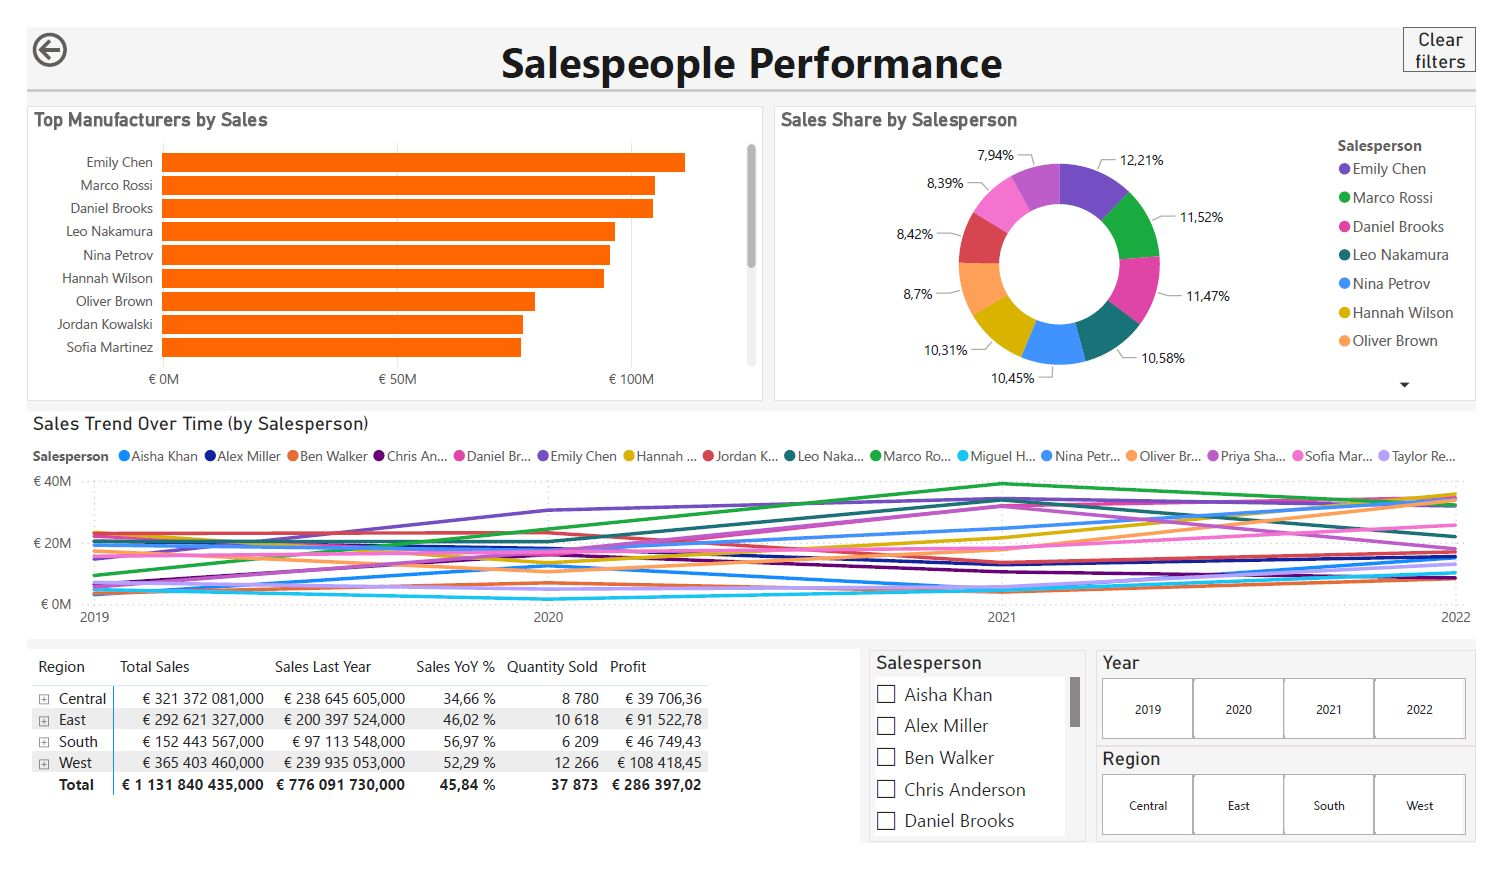

Layout of this report page (visuals, bound fields, positions):
{"tool":"powerbi","page":{"name":"03. Salesperson Performance","canvas":[1280,720],"ordinal":2},"visuals":[{"type":"textbox","box":[0,0,1280,70],"z":0},{"type":"clusteredBarChart","title":"Top Manufacturers by Sales","fields":{"Y":["_Measures.Total Sales"],"Category":["Fact_Sales.salesperson"]},"box":[0,70,650,260],"z":1000},{"type":"donutChart","title":"Sales Share by Salesperson","fields":{"Category":["Fact_Sales.salesperson"],"Y":["_Measures.Total Sales"]},"box":[660,70,620,260],"z":2000},{"type":"advancedSlicerVisual","fields":{"Values":["Fact_Sales_updated.region"]},"box":[944,640,336,80],"z":3000},{"type":"listSlicer","fields":{"Values":["Fact_Sales.salesperson"]},"box":[744,552,192,168],"z":4000},{"type":"lineChart","title":"Sales Trend Over Time (by Salesperson)","fields":{"Series":["Fact_Sales.salesperson"],"Y":["_Measures.Total Sales"],"Category":["Calendar.Date Hierarchy.Year_H","Calendar.Date Hierarchy.Month_H","Calendar.Date Hierarchy.Day_H"]},"box":[0,340,1280,200],"z":5000},{"type":"advancedSlicerVisual","fields":{"Values":["Calendar.Year"]},"box":[944,552,336,88],"z":6000},{"type":"pivotTable","fields":{"Rows":["Fact_Sales.region","Fact_Sales.salesperson"],"Values":["_Measures.Total Sales","_Measures.Sales Last Year","_Measures.Sales Year over Year %","_Measures.Total Quantity","Fact_Sales.profit"]},"box":[0,552,735,168],"z":7000},{"type":"actionButton","box":[0,0,100,40],"z":8000},{"type":"actionButton","title":"Clear filters","box":[1216,0,64,40],"z":9000},{"type":"shape","box":[0,32,1280,48],"z":10000}]}

Visuals, with their boxes on the page's 1280x720 design canvas (x1, y1, x2, y2). These are canvas units, not pixel positions in the 1502x869 screenshot, which may show the page scaled, cropped or inside an application window:
textbox: locate(0, 0, 1280, 70)
"Top Manufacturers by Sales" clusteredBarChart: locate(0, 70, 650, 330)
"Sales Share by Salesperson" donutChart: locate(660, 70, 1280, 330)
advancedSlicerVisual - Fact_Sales_updated.region: locate(944, 640, 1280, 720)
listSlicer - Fact_Sales.salesperson: locate(744, 552, 936, 720)
"Sales Trend Over Time (by Salesperson)" lineChart: locate(0, 340, 1280, 540)
advancedSlicerVisual - Calendar.Year: locate(944, 552, 1280, 640)
pivotTable - Fact_Sales.region x Fact_Sales.salesperson: locate(0, 552, 735, 720)
actionButton: locate(0, 0, 100, 40)
"Clear filters" actionButton: locate(1216, 0, 1280, 40)
shape: locate(0, 32, 1280, 80)
